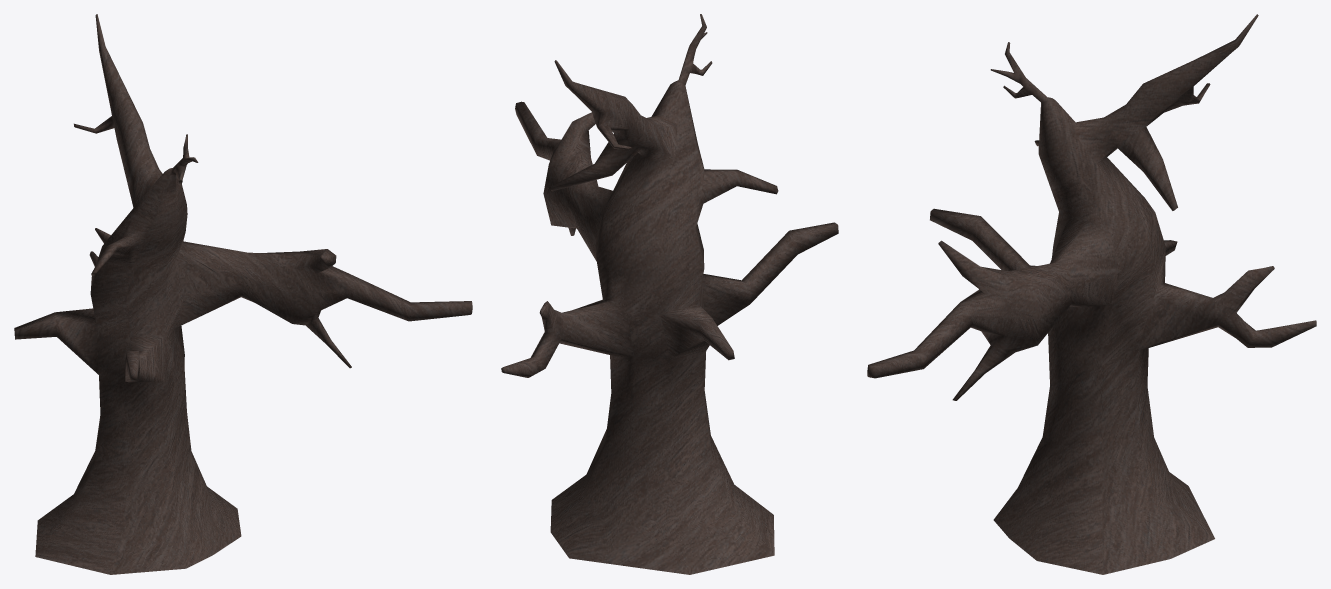
The model's file is Arbol_seco_3.fbx.
3 renders of one model, left to right at view 1: azimuth 30°, elevation 25°; view 2: azimuth 150°, elevation 25°; view 3: azimuth 270°, elevation 25°, orthographic. The views are drawn at different scales.
Visible parts, largest first — view 1: Arbol_2_calvo.002; view 2: Arbol_2_calvo.002; view 3: Arbol_2_calvo.002.
Boxes of the visible parts, bbox=[...] form: Arbol_2_calvo.002: bbox=[14, 14, 472, 574]; Arbol_2_calvo.002: bbox=[501, 14, 838, 574]; Arbol_2_calvo.002: bbox=[867, 14, 1316, 574].
Size of the model in its own units: 1602 by 2112 by 1652.
